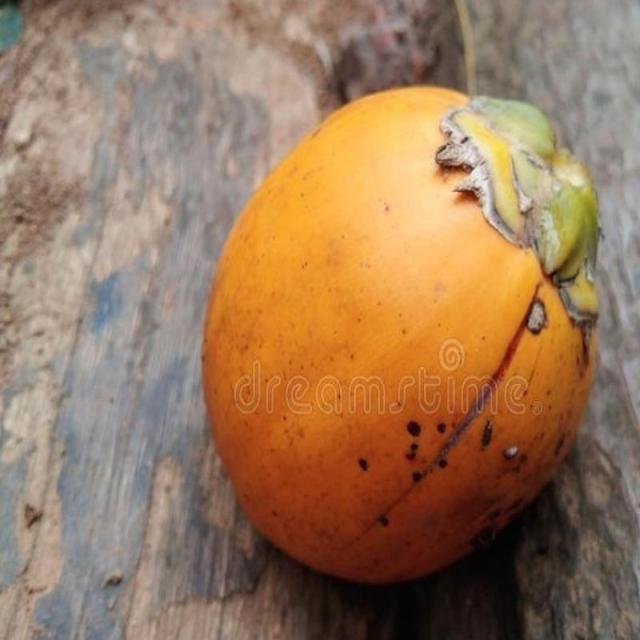good: (200, 85, 600, 589)
